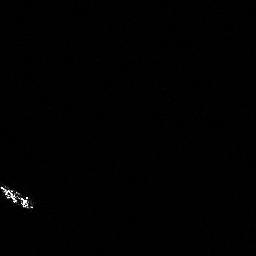ship: (1, 187, 35, 208)
